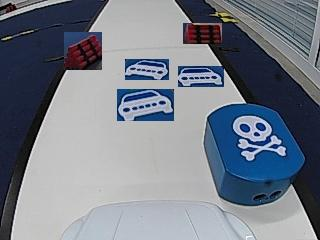danger: (238, 122, 284, 160)
